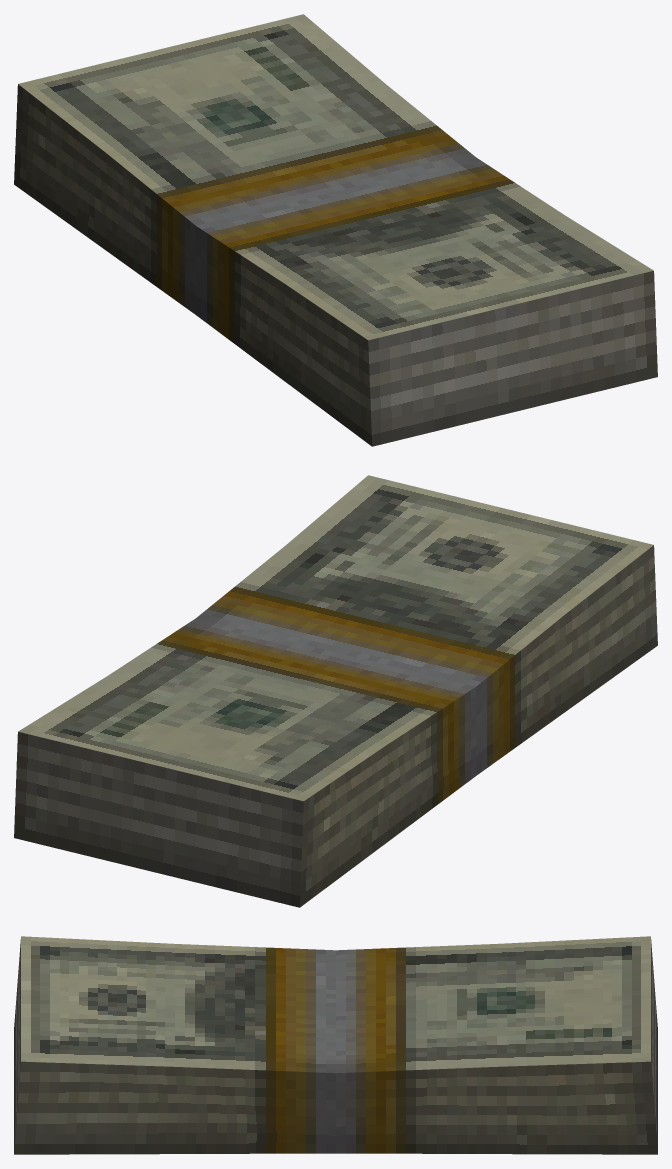
The model's file is cash_1_2.glb.
3 views of the same model, one above another, from view 1: azimuth 30°, elevation 25°; view 2: azimuth 150°, elevation 25°; view 3: azimuth 270°, elevation 25° (orthographic). The views are drawn at different scales.
Visible parts, largest first — view 1: cash_1_2; view 2: cash_1_2; view 3: cash_1_2.
Boxes of the visible parts, x1,y1,x2,y2 form: cash_1_2: [14, 14, 657, 446]; cash_1_2: [14, 475, 657, 907]; cash_1_2: [14, 936, 657, 1154].
Size of the model in its own units: 0.1051 by 0.0364 by 0.2281.
1 material, 1 textured.
